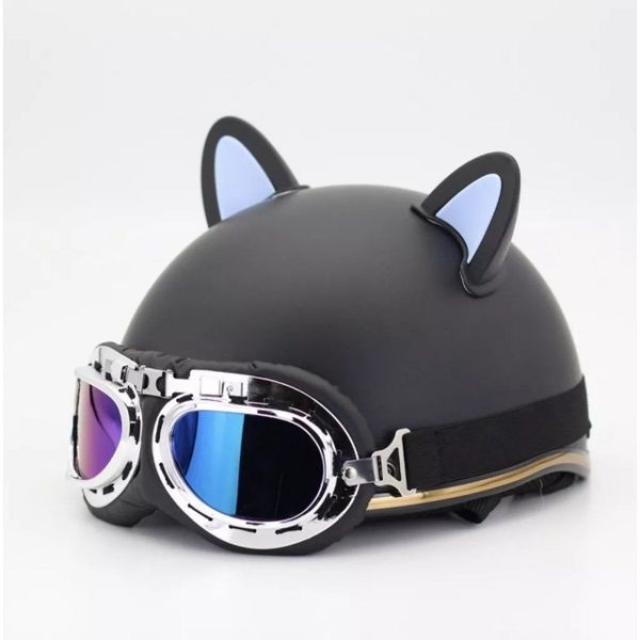Helmet: (65, 113, 595, 559)
